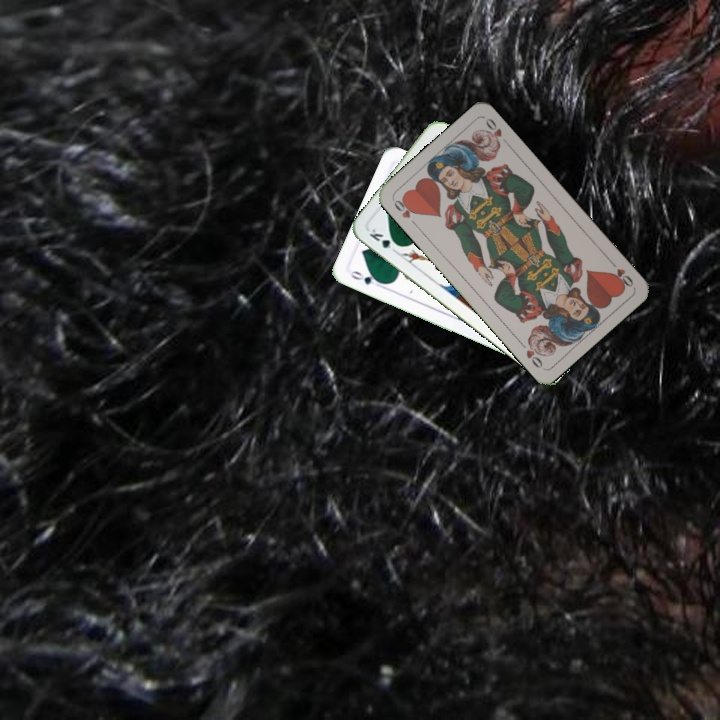GK: (365, 225, 403, 256)
GO: (347, 266, 386, 290)
HO: (389, 194, 420, 229), (605, 256, 636, 290)
